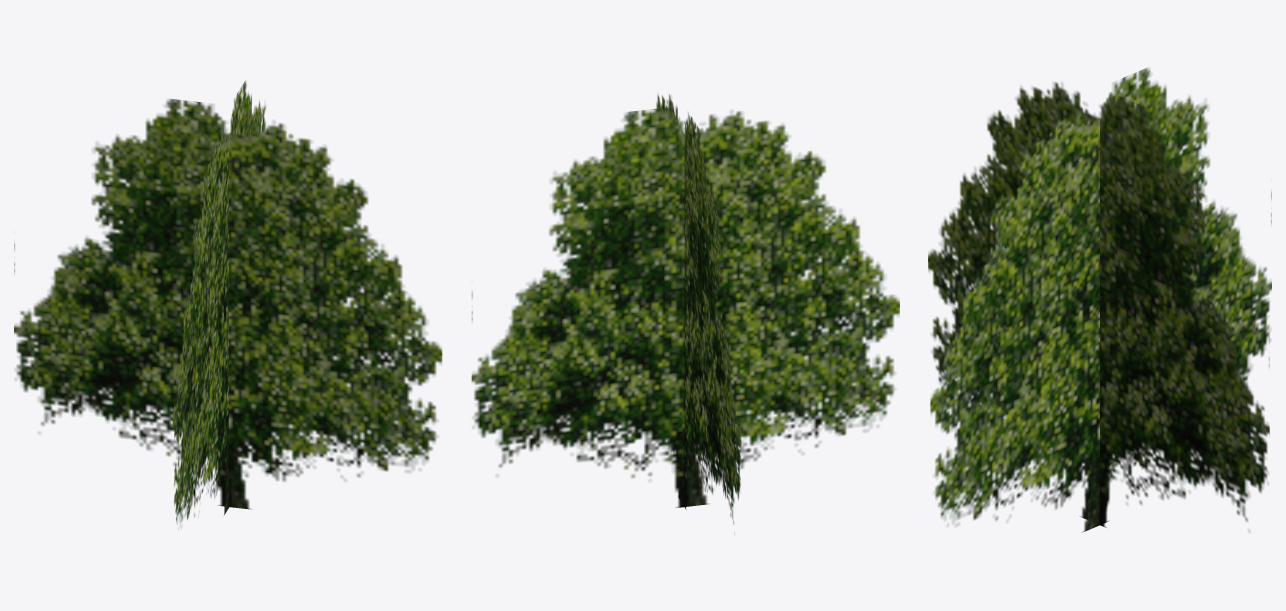
File: tree110.glb
The picture shows the model from 3 angles, left to right: view 1: azimuth 30°, elevation 25°; view 2: azimuth 150°, elevation 25°; view 3: azimuth 270°, elevation 25°; orthographic projection. The views are drawn at different scales.
Parts seen in each view (by area): view 1: tree110; view 2: tree110; view 3: tree110.
Part boxes in pixels (x1,y1,x2,y2): tree110: (14, 80, 442, 527); tree110: (471, 94, 899, 523); tree110: (928, 68, 1271, 532).
Size of the model in its own units: 2.78 by 4 by 2.78.
Materials: 1 (1 with a texture image).
